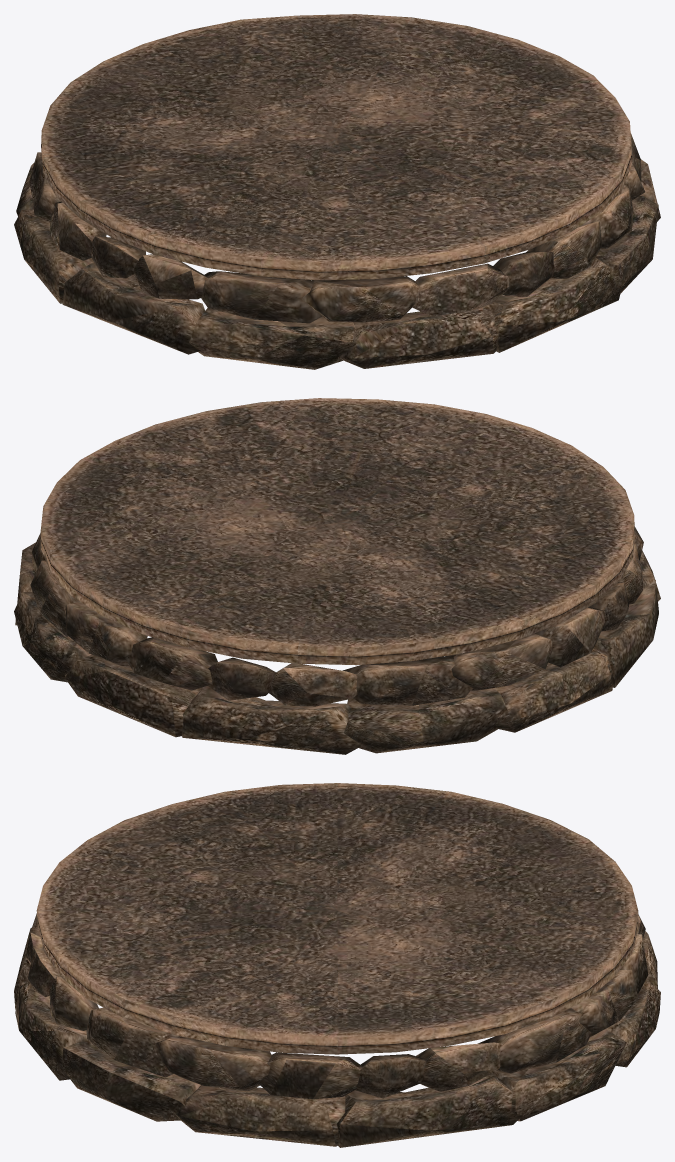
File: pedestal.glb
The picture shows the model from 3 angles, top to bottom: view 1: azimuth 30°, elevation 25°; view 2: azimuth 150°, elevation 25°; view 3: azimuth 270°, elevation 25°; orthographic projection.
Parts seen in each view (by area): view 1: PedestalMesh; view 2: PedestalMesh; view 3: PedestalMesh.
Boxes of the visible parts, x1,y1,x2,y2 form: PedestalMesh: (14, 14, 660, 369); PedestalMesh: (14, 398, 660, 754); PedestalMesh: (14, 783, 660, 1147).
Bounding box in the file's own units: 1 × 0.1748 × 1.
Materials: 1 (1 with a texture image).
